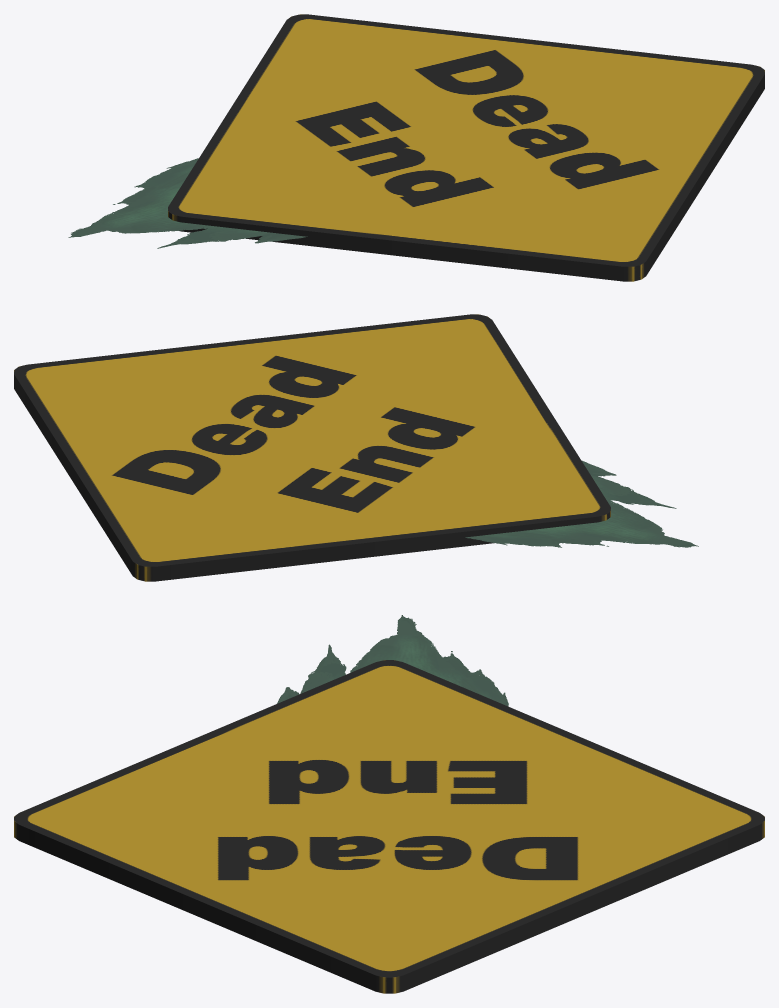
Rendered from DeadEndSign-Fixed.fbx.
The picture shows the model from 3 angles, top to bottom: view 1: azimuth 30°, elevation 25°; view 2: azimuth 150°, elevation 25°; view 3: azimuth 270°, elevation 25°; orthographic projection. The views are drawn at different scales.
Parts seen in each view (by area): view 1: Underwater Sign 3; view 2: Underwater Sign 3; view 3: Underwater Sign 3.
Boxes of the visible parts, left/top/right/bottom form: Underwater Sign 3: left=68, top=14, right=764, bottom=281; Underwater Sign 3: left=14, top=314, right=698, bottom=581; Underwater Sign 3: left=14, top=615, right=764, bottom=993.
Bounding box in the file's own units: 2040 × 41.85 × 1751.
